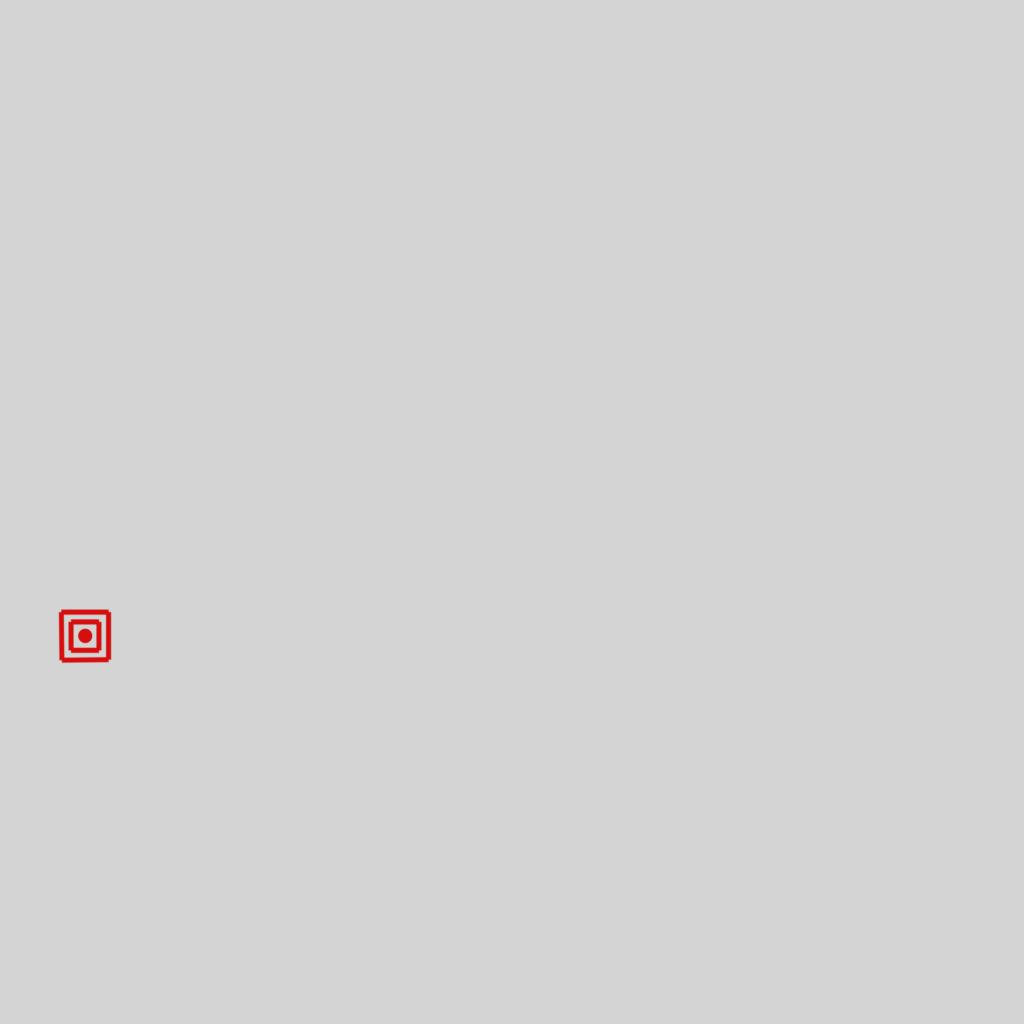NAM-Nichtautomatischer_Melder: (57, 608, 113, 664)
